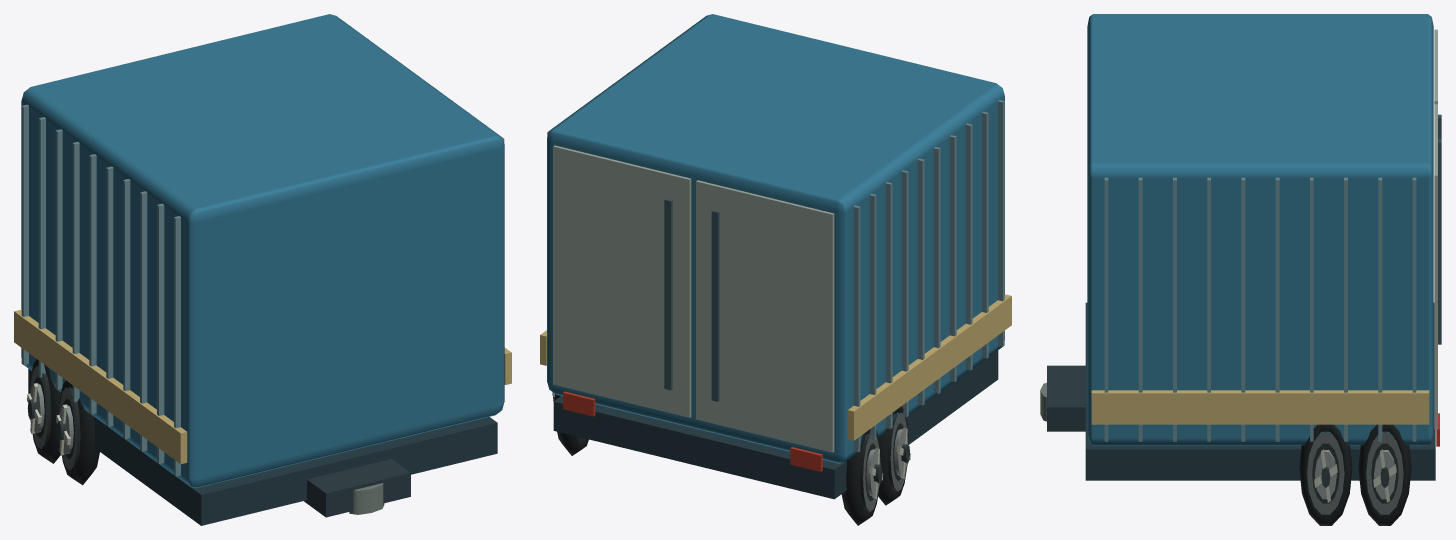
Rendered from trailer.glb.
3 views of the same model, side by side, from view 1: azimuth 30°, elevation 25°; view 2: azimuth 150°, elevation 25°; view 3: azimuth 270°, elevation 25° (orthographic). The views are drawn at different scales.
Parts seen in each view (by area): view 1: trailer_body; view 2: trailer_body; view 3: trailer_body.
Boxes of the visible parts, box(x1,y1,x2,y2) form: trailer_body: box(14, 14, 511, 525); trailer_body: box(540, 14, 1011, 525); trailer_body: box(1040, 14, 1441, 525).
Size of the model in its own units: 1 by 1 by 1.
